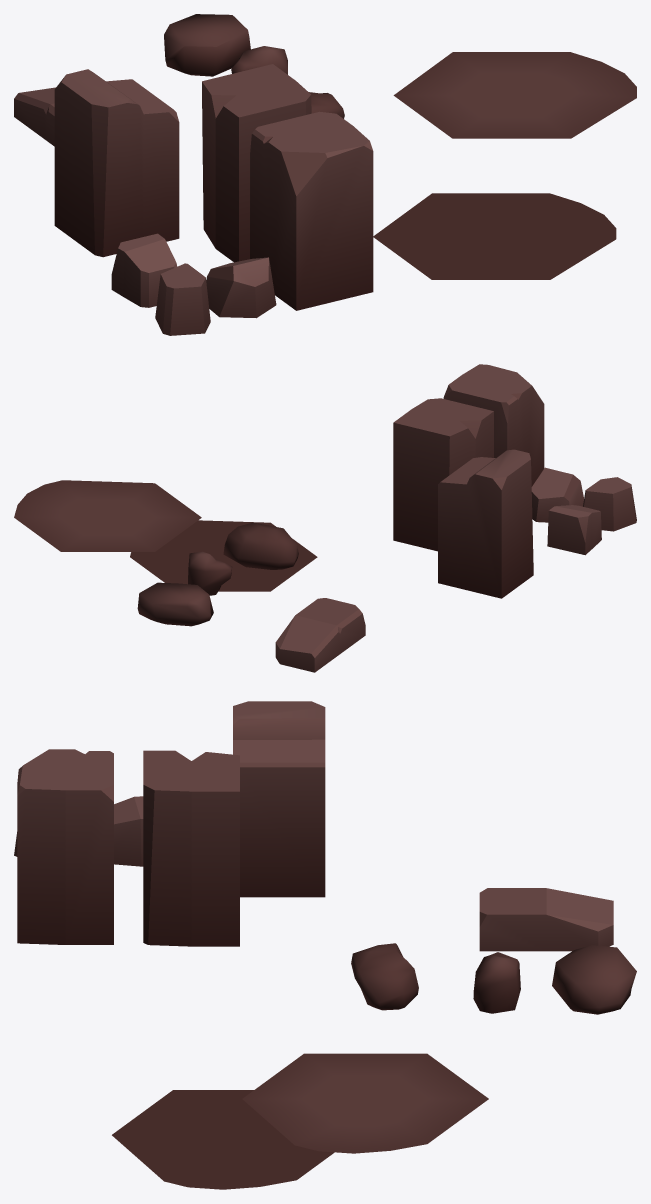
The model's file is Object_Stage_06.fbx.
3 views of the same model, one above another, from view 1: azimuth 30°, elevation 25°; view 2: azimuth 150°, elevation 25°; view 3: azimuth 270°, elevation 25° (orthographic). The views are drawn at different scales.
Parts seen in each view (by area): view 1: Rock_S5_004, Rock_S5_002, ST6_Ground, ST6_Ground.001, Rock_S5_003, ST2_3_Rock_09, Rock_S5_007, Rock_S5_005, Rock_S5_006, Rock_S5_001, ST2_3_Rock_08, ST2_3_Rock_07; view 2: Rock_S5_002, ST6_Ground, Rock_S5_003, Rock_S5_004, ST6_Ground.001, Rock_S5_001, ST2_3_Rock_07, ST2_3_Rock_09, Rock_S5_005, Rock_S5_006, Rock_S5_007, ST2_3_Rock_08; view 3: Rock_S5_003, Rock_S5_004, ST6_Ground, Rock_S5_002, ST6_Ground.001, Rock_S5_001, ST2_3_Rock_09, ST2_3_Rock_07, ST2_3_Rock_08, Rock_S5_005.
Boxes of the visible parts, x1,y1,x2,y2 form: Rock_S5_004: [250, 111, 373, 310]; Rock_S5_002: [54, 69, 179, 257]; ST6_Ground: [393, 52, 636, 138]; ST6_Ground.001: [373, 193, 616, 279]; Rock_S5_003: [202, 64, 311, 262]; ST2_3_Rock_09: [164, 14, 250, 76]; Rock_S5_007: [206, 257, 276, 318]; Rock_S5_005: [111, 233, 177, 307]; Rock_S5_006: [155, 263, 210, 335]; Rock_S5_001: [14, 87, 55, 146]; ST2_3_Rock_08: [231, 46, 287, 74]; ST2_3_Rock_07: [309, 92, 344, 118]; Rock_S5_002: [438, 449, 533, 598]; ST6_Ground: [14, 480, 201, 551]; Rock_S5_003: [393, 398, 493, 551]; Rock_S5_004: [443, 364, 544, 486]; ST6_Ground.001: [130, 520, 317, 591]; Rock_S5_001: [275, 598, 365, 672]; ST2_3_Rock_07: [223, 522, 298, 569]; ST2_3_Rock_09: [137, 582, 213, 626]; Rock_S5_005: [547, 505, 601, 555]; Rock_S5_006: [583, 477, 636, 531]; Rock_S5_007: [531, 467, 583, 522]; ST2_3_Rock_08: [188, 551, 232, 595]; Rock_S5_003: [143, 750, 239, 946]; Rock_S5_004: [17, 749, 113, 944]; ST6_Ground: [242, 1053, 488, 1153]; Rock_S5_002: [233, 701, 325, 897]; ST6_Ground.001: [112, 1090, 334, 1189]; Rock_S5_001: [479, 888, 613, 951]; ST2_3_Rock_09: [552, 945, 636, 1014]; ST2_3_Rock_07: [351, 943, 418, 1010]; ST2_3_Rock_08: [473, 952, 520, 1013]; Rock_S5_005: [114, 796, 143, 866].
Bounding box in the file's own units: 51.56 × 17.94 × 43.37.
